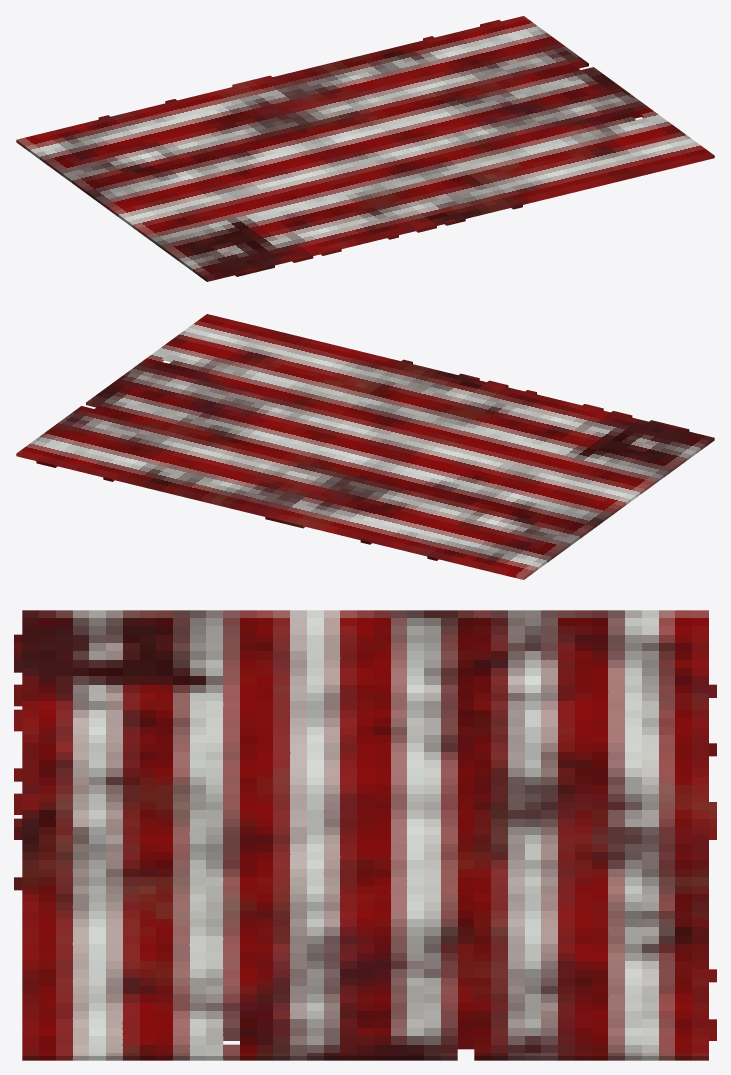
File: CLoth.fbx
3 views of the same model, one above another, from view 1: azimuth 30°, elevation 25°; view 2: azimuth 150°, elevation 25°; view 3: azimuth 270°, elevation 25° (orthographic). The views are drawn at different scales.
Parts seen in each view (by area): view 1: Flag_Rigged; view 2: Flag_Rigged; view 3: Flag_Rigged.
Part boxes in pixels (<box>): Flag_Rigged: <box>16,16,714,281</box>; Flag_Rigged: <box>16,314,714,579</box>; Flag_Rigged: <box>14,610,716,1060</box>.
Size of the model in its own units: 115 by 0.5711 by 76.57.
Materials: 1 (1 with a texture image).
